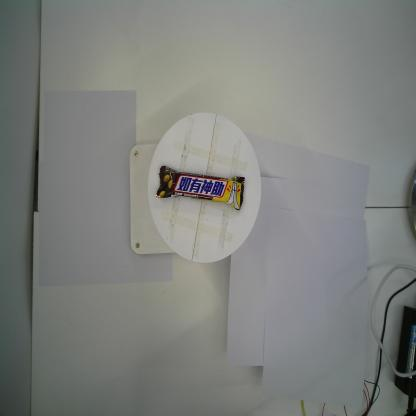Chocolate: (155, 166, 245, 212)
